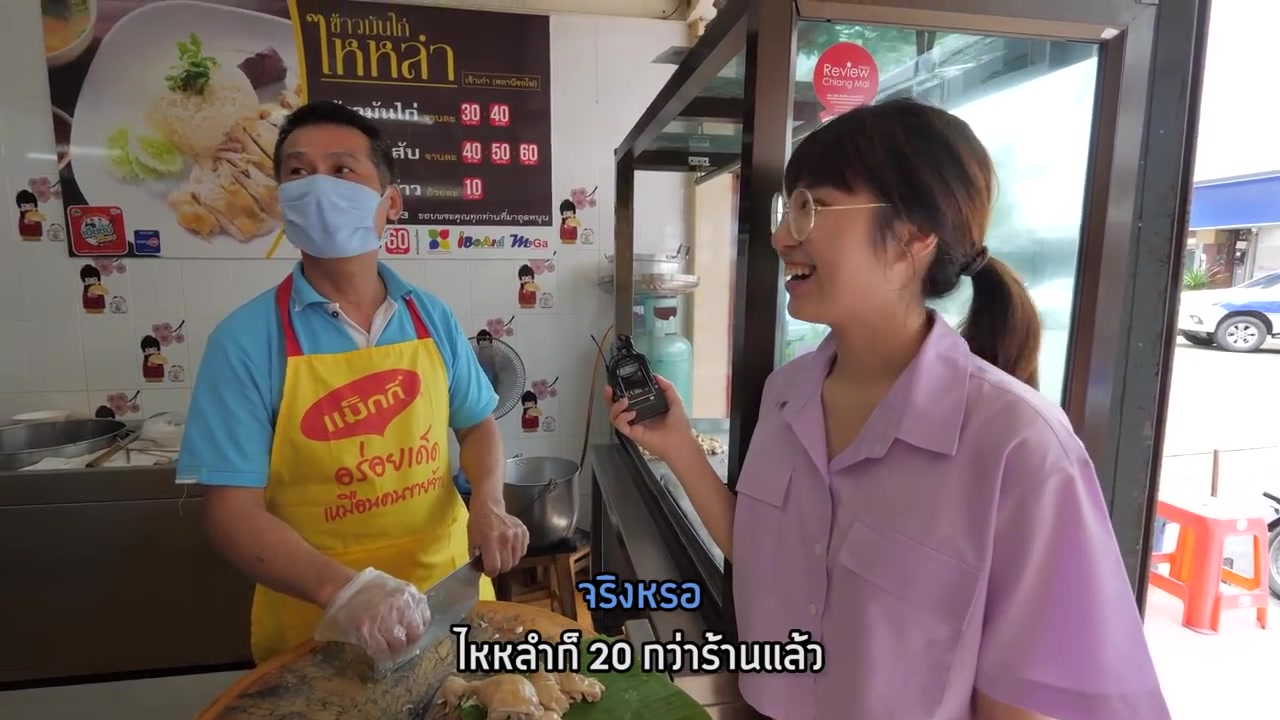text-label: (445, 616, 827, 676), (573, 569, 705, 614)
